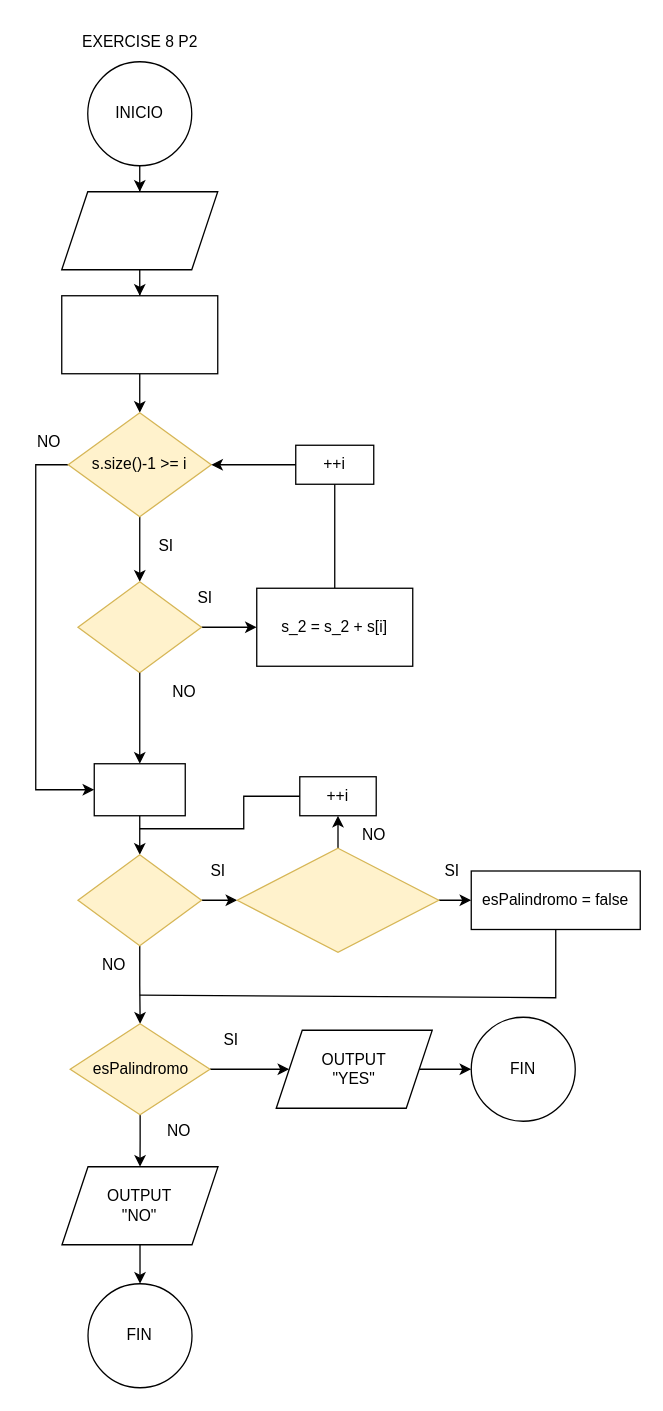
The diagram is 663 pixels wide and 1411 high, and some of its shapes have lost their labels. Each missing label, with the centre of its shape:
"i < n/2" goes at pixel 139 899.
"i = 0" goes at pixel 139 789.
"INPUT n" goes at pixel 139 230.
"s[i] !=' '" goes at pixel 139 626.
"S_2 esPalindromo = true i=0" goes at pixel 139 334.
"s_2[i] != s_2[n - 1 - i]" goes at pixel 337 899.
